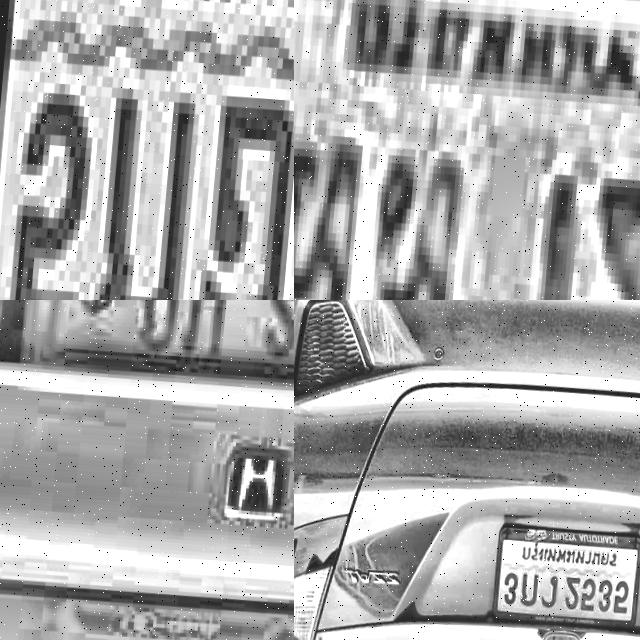license-plate: (294, 0, 640, 300), (0, 0, 294, 300), (26, 300, 294, 406), (486, 514, 640, 636)
